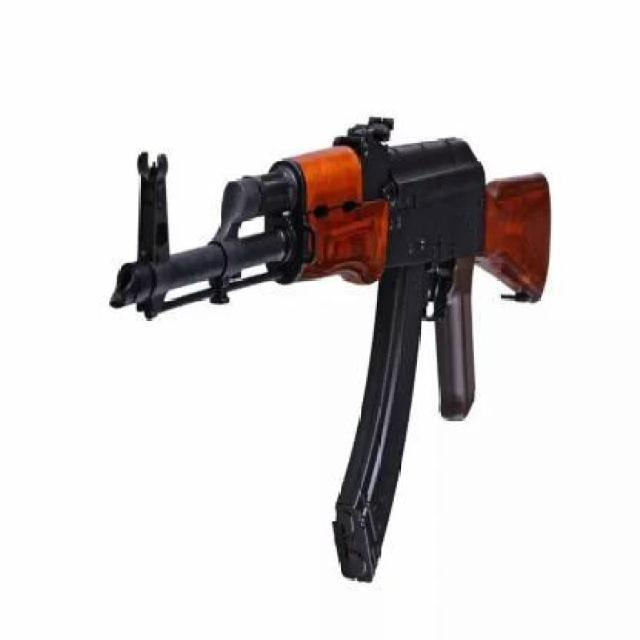weapon: (91, 100, 567, 598)
